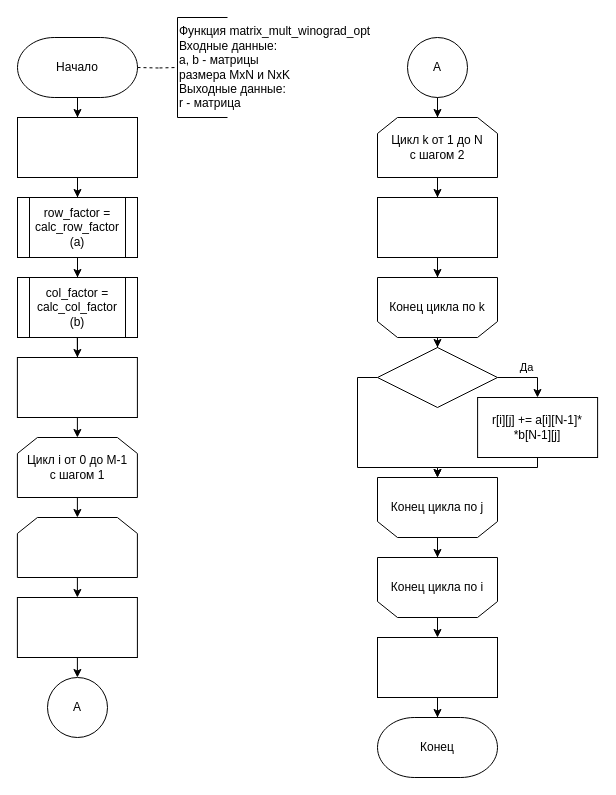
Some shapes in this 616 by 795 pixel diagram are drawn without their labels. The centre of each missing label's shape, as x and y in pixels:
"flag = остаток от деления N на 2" goes at pixel 76 387.
"flag > 0" goes at pixel 437 377.
"r[i][j] += (a[i][k]+b[k-1][j])* *(a[i][k-1]+b[k][j])" goes at pixel 437 227.
"r[i][j] = row_factor[i] + + col_factor[j]" goes at pixel 76 627.
"Вернуть r" goes at pixel 437 667.
"создание матрицы r размером MxK" goes at pixel 77 147.
"Цикл j от 0 до K-1 c шагом 1" goes at pixel 76 547.
